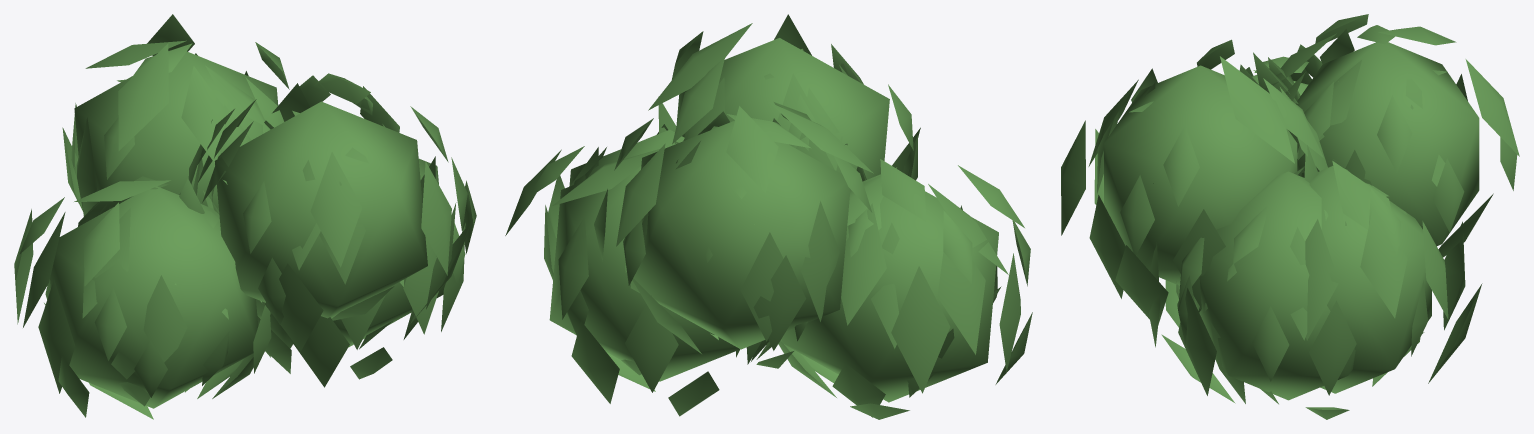
Rendered from SM_Env_Bush_01.fbx.
3 views of the same model, side by side, from view 1: azimuth 30°, elevation 25°; view 2: azimuth 150°, elevation 25°; view 3: azimuth 270°, elevation 25° (orthographic). The views are drawn at different scales.
Visible parts, largest first — view 1: Bush_inner_volume.003, Bush_inner_volume.002, Leaves.002, Leaves.003, Leaves.001, Bush_inner_volume.001, Leaves, Bush_inner_volume, Leaves.004; view 2: Bush_inner_volume.001, Leaves.002, Leaves.001, Bush_inner_volume.002, Leaves.004, Bush_inner_volume.004, Bush_inner_volume.003, Leaves.003, Leaves, Bush_inner_volume; view 3: Bush_inner_volume.003, Bush_inner_volume.001, Leaves.003, Bush_inner_volume, Leaves.001, Leaves.004, Bush_inner_volume.004, Leaves, Leaves.002.
Boxes of the visible parts, x1=… form: Bush_inner_volume.003: x1=214, y1=101, x2=427, y2=318; Bush_inner_volume.002: x1=50, y1=186, x2=258, y2=408; Leaves.002: x1=14, y1=176, x2=271, y2=419; Leaves.003: x1=188, y1=73, x2=472, y2=351; Leaves.001: x1=62, y1=14, x2=289, y2=213; Bush_inner_volume.001: x1=74, y1=51, x2=278, y2=216; Leaves: x1=257, y1=180, x2=476, y2=387; Bush_inner_volume: x1=256, y1=158, x2=445, y2=347; Leaves.004: x1=270, y1=86, x2=417, y2=349; Bush_inner_volume.001: x1=630, y1=120, x2=850, y2=349; Leaves.002: x1=778, y1=143, x2=1032, y2=419; Leaves.001: x1=594, y1=102, x2=873, y2=368; Bush_inner_volume.002: x1=781, y1=174, x2=998, y2=402; Leaves.004: x1=505, y1=141, x2=739, y2=416; Bush_inner_volume.004: x1=549, y1=166, x2=739, y2=381; Bush_inner_volume.003: x1=676, y1=38, x2=889, y2=179; Leaves.003: x1=648, y1=14, x2=920, y2=180; Leaves: x1=544, y1=124, x2=771, y2=364; Bush_inner_volume: x1=569, y1=129, x2=684, y2=186; Bush_inner_volume.003: x1=1104, y1=65, x2=1297, y2=285; Bush_inner_volume.001: x1=1288, y1=42, x2=1479, y2=245; Leaves.003: x1=1061, y1=52, x2=1327, y2=324; Bush_inner_volume: x1=1193, y1=171, x2=1355, y2=400; Leaves.001: x1=1264, y1=14, x2=1519, y2=257; Leaves.004: x1=1210, y1=159, x2=1482, y2=419; Bush_inner_volume.004: x1=1304, y1=166, x2=1431, y2=393; Leaves: x1=1148, y1=206, x2=1428, y2=403; Leaves.002: x1=1197, y1=39, x2=1322, y2=95.
Size of what is drawn, in the model's own units: 82.64 by 72.64 by 58.15.
